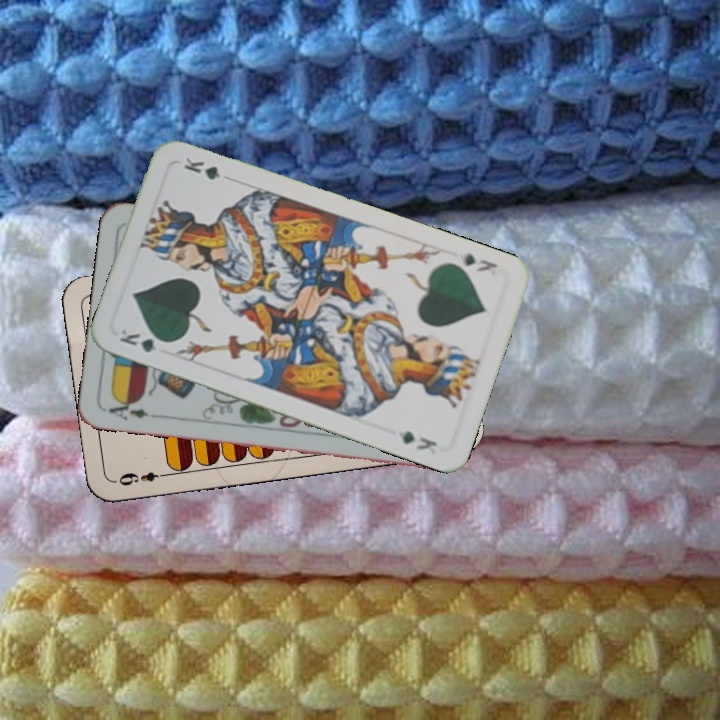E9: (112, 468, 171, 489)
EA: (105, 395, 161, 423)
GK: (115, 324, 173, 355), (459, 249, 500, 275)
